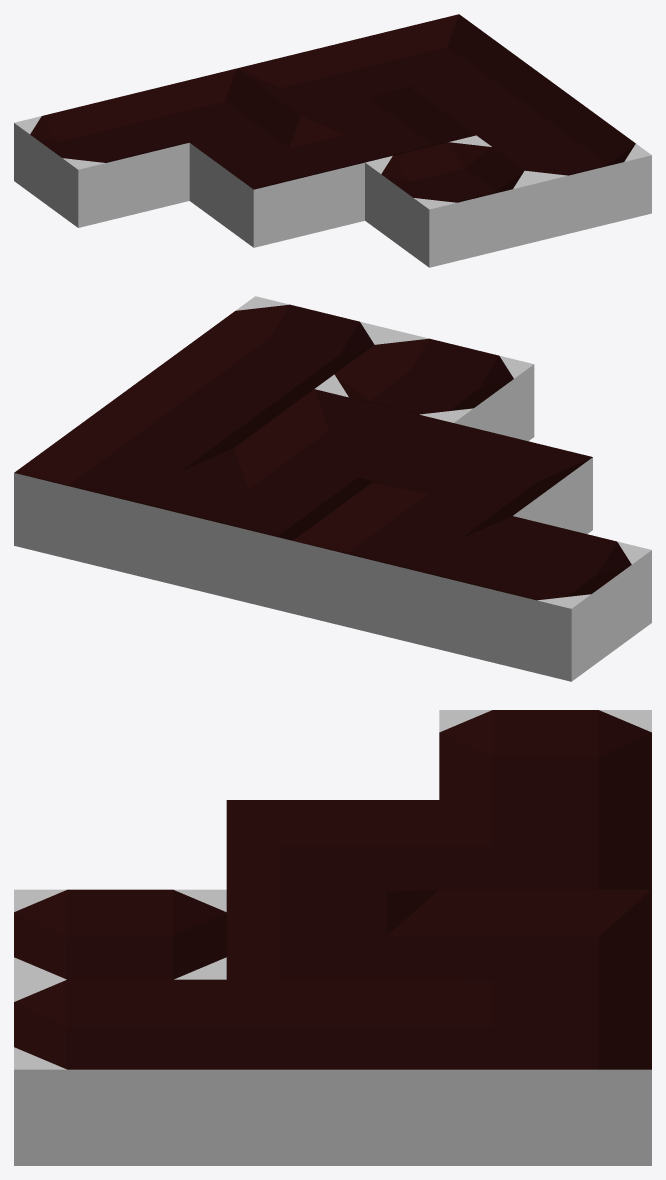
The model's file is 5f_path.obj.
3 renders of one model, top to bottom at view 1: azimuth 30°, elevation 25°; view 2: azimuth 150°, elevation 25°; view 3: azimuth 270°, elevation 25°, orthographic. The views are drawn at different scales.
Parts seen in each view (by area): view 1: foil.hole.2.2_Cube.010, foil.ending.0.4_ending.019, foil.corner.1.3_corner.049, foil.ending.3.2_ending.020, foil.corner.1.4_corner.050, foil.corner.3.4_corner.053, foil.corner.2.4_corner.052, foil.through.3.3_through.009, foil.corner.2.3_corner.051; view 2: foil.ending.0.4_ending.019, foil.corner.1.4_corner.050, foil.corner.3.4_corner.053, foil.corner.2.4_corner.052, foil.corner.1.3_corner.049, foil.hole.2.2_Cube.010, foil.corner.2.3_corner.051, foil.ending.3.2_ending.020, foil.through.3.3_through.009; view 3: foil.through.3.3_through.009, foil.ending.3.2_ending.020, foil.corner.3.4_corner.053, foil.corner.2.4_corner.052, foil.corner.1.3_corner.049, foil.ending.0.4_ending.019, foil.hole.2.2_Cube.010, foil.corner.2.3_corner.051, foil.corner.1.4_corner.050.
Boxes of the visible parts, x1,y1,x2,y2 form: foil.hole.2.2_Cube.010: (365,135,540,267); foil.ending.0.4_ending.019: (14,95,189,227); foil.corner.1.3_corner.049: (189,115,364,247); foil.ending.3.2_ending.020: (477,108,651,240); foil.corner.1.4_corner.050: (125,68,300,150); foil.corner.3.4_corner.053: (348,14,522,95); foil.corner.2.4_corner.052: (237,41,411,123); foil.through.3.3_through.009: (412,61,587,142); foil.corner.2.3_corner.051: (301,88,475,165); foil.ending.0.4_ending.019: (432,516,651,681); foil.corner.1.4_corner.050: (292,482,512,647); foil.corner.3.4_corner.053: (14,414,233,579); foil.corner.2.4_corner.052: (153,448,372,613); foil.corner.1.3_corner.049: (373,423,592,533); foil.hole.2.2_Cube.010: (315,330,534,441); foil.corner.2.3_corner.051: (234,389,453,491); foil.ending.3.2_ending.020: (175,296,394,398); foil.through.3.3_through.009: (95,355,313,457); foil.through.3.3_through.009: (226,979,439,1165); foil.ending.3.2_ending.020: (14,979,226,1165); foil.corner.3.4_corner.053: (439,980,651,1165); foil.corner.2.4_corner.052: (439,889,651,1003); foil.corner.1.3_corner.049: (226,800,439,913); foil.ending.0.4_ending.019: (439,710,651,823); foil.hole.2.2_Cube.010: (14,889,226,979); foil.corner.2.3_corner.051: (226,890,439,979); foil.corner.1.4_corner.050: (439,800,651,889).
Bounding box in the file's own units: 8 × 1 × 6.
